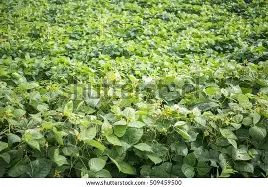crops: (0, 0, 264, 176)
